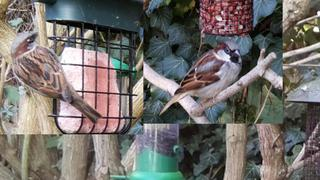sparrow: (10, 31, 103, 125), (158, 40, 243, 116)
